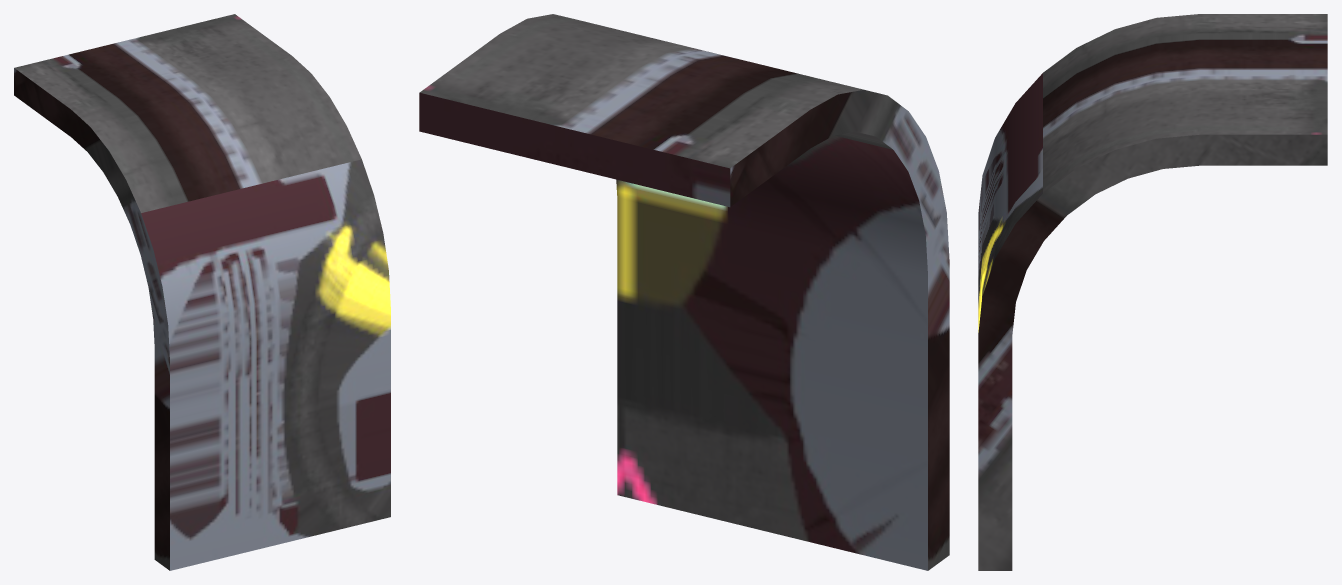
File: duct_hor_floorless.fbx
3 views of the same model, side by side, from view 1: azimuth 30°, elevation 25°; view 2: azimuth 150°, elevation 25°; view 3: azimuth 270°, elevation 25° (orthographic). The views are drawn at different scales.
Visible parts, largest first — view 1: duct_hor_02.002; view 2: duct_hor_02.002; view 3: duct_hor_02.002.
Boxes of the visible parts, left/top/right/bottom form: duct_hor_02.002: left=14, top=14, right=390, bottom=570; duct_hor_02.002: left=419, top=14, right=949, bottom=570; duct_hor_02.002: left=978, top=14, right=1327, bottom=570.
Size of the model in its own units: 1776 by 2989 by 2171.
